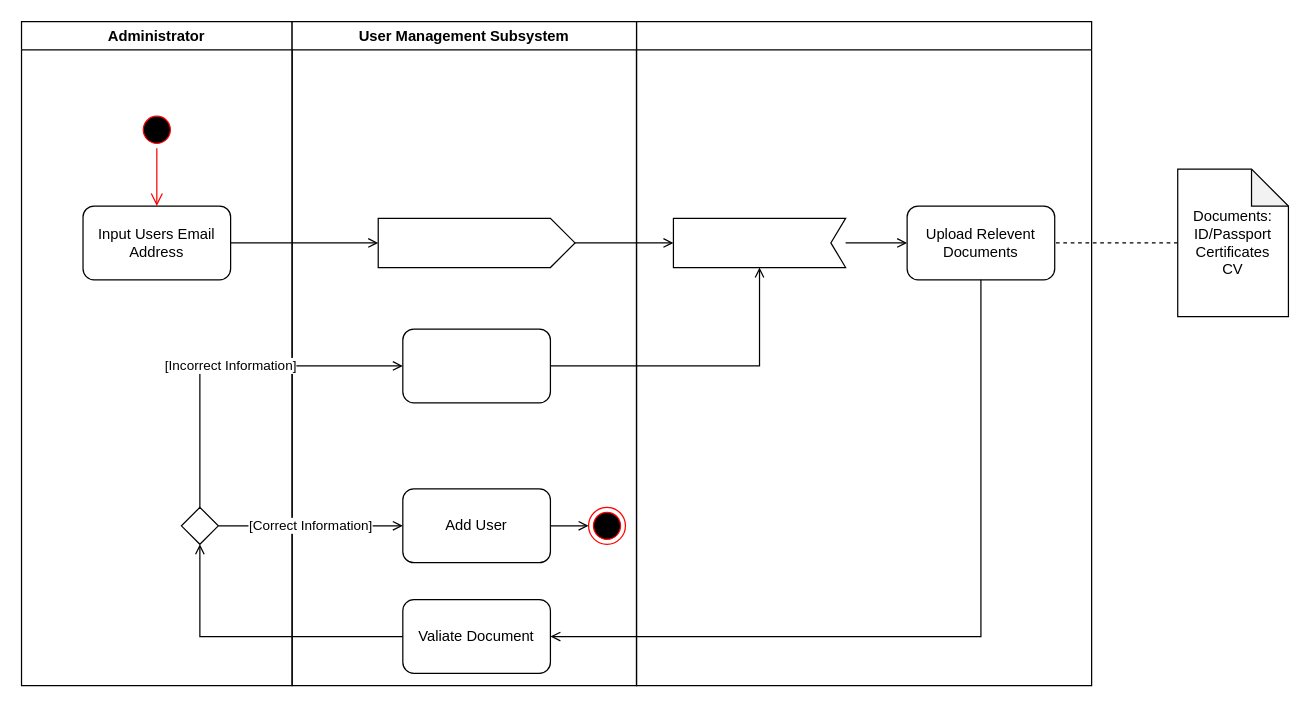
Image size: 1310x707. Some labels were removed from this diagram. The shapes that lost their labels are listed below. From the top down, each one's box as (x1, y1, x2, y2) in pixels, then its label:
(377, 217, 575, 268): Send Registration Link
(672, 217, 846, 268): Enter Credentials
(402, 328, 550, 403): Send Error Message
(635, 20, 1092, 686): User
